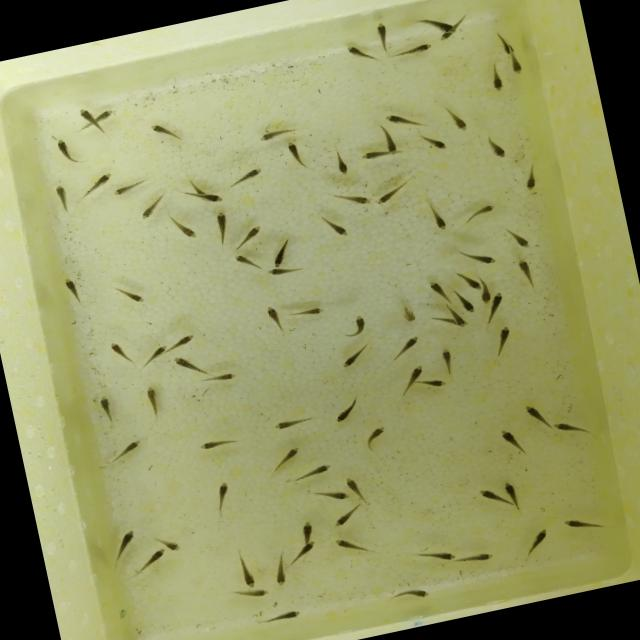fingerling: (96, 435, 150, 470), (324, 180, 374, 216), (104, 524, 144, 568), (125, 544, 171, 580), (250, 604, 308, 632), (552, 412, 602, 444), (205, 476, 240, 520), (560, 507, 606, 540), (484, 322, 520, 364), (324, 392, 367, 427), (496, 419, 531, 462), (137, 380, 172, 422), (383, 103, 432, 133), (516, 522, 556, 558), (279, 135, 315, 175), (56, 270, 90, 312), (163, 208, 200, 246), (385, 581, 437, 608), (356, 419, 392, 458), (343, 36, 383, 71), (454, 241, 500, 271), (208, 206, 238, 252), (191, 428, 240, 456), (170, 346, 208, 382), (316, 206, 352, 244), (49, 132, 85, 170), (228, 546, 259, 590), (408, 543, 458, 570), (110, 276, 149, 310), (513, 157, 546, 197), (332, 531, 373, 563), (146, 116, 187, 148), (270, 407, 316, 435), (222, 163, 268, 191), (105, 335, 138, 374), (263, 444, 305, 474), (386, 331, 424, 364), (336, 338, 374, 371), (458, 200, 502, 228), (500, 218, 534, 254), (289, 460, 336, 486), (510, 254, 542, 292), (254, 120, 303, 144), (372, 179, 412, 208), (441, 103, 475, 137), (230, 220, 266, 252), (92, 389, 121, 428), (265, 550, 293, 590), (521, 398, 552, 434), (226, 583, 272, 607), (480, 129, 510, 165), (416, 126, 452, 156), (422, 199, 451, 236), (308, 482, 349, 508), (338, 310, 373, 340), (284, 540, 320, 569), (262, 300, 290, 337), (48, 180, 76, 217), (285, 300, 328, 324), (266, 234, 296, 268), (232, 248, 266, 278), (79, 168, 118, 194), (262, 260, 308, 282), (343, 468, 371, 504), (134, 342, 170, 370), (110, 175, 152, 199), (480, 59, 508, 95), (392, 38, 434, 62), (457, 544, 498, 568), (328, 503, 364, 529), (135, 194, 169, 221), (454, 264, 482, 294), (329, 142, 352, 178), (436, 344, 460, 378), (168, 328, 202, 352), (372, 17, 394, 54), (476, 483, 505, 511), (427, 273, 450, 305), (394, 296, 418, 326), (199, 370, 242, 386), (358, 144, 388, 166), (418, 374, 448, 394), (382, 122, 398, 156), (296, 518, 318, 541), (506, 52, 526, 76), (458, 292, 477, 316), (201, 188, 225, 206), (502, 476, 520, 499), (490, 288, 510, 308), (406, 362, 426, 381), (437, 16, 457, 34), (476, 288, 494, 306), (164, 537, 184, 553), (94, 107, 114, 123), (78, 105, 94, 122), (452, 312, 466, 329), (438, 32, 452, 42)
